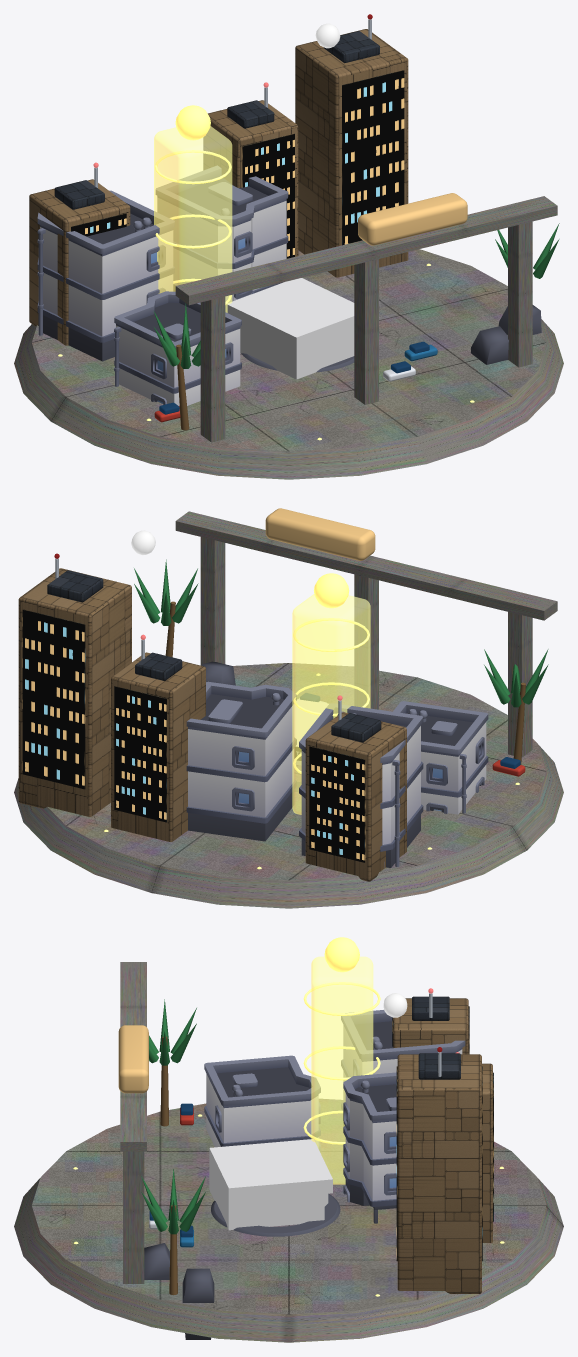
File: town-T5.glb
3 views of the same model, one above another, from view 1: azimuth 30°, elevation 25°; view 2: azimuth 150°, elevation 25°; view 3: azimuth 270°, elevation 25° (orthographic).
Parts seen in each view (by area): view 1: object 1, building-a, object 39, object 70, building-b, Mesh_noExport, object 40, building-c, object 65, object 21, object 45, object 66 (+11 smaller); view 2: object 1, building-b, object 39, object 41, object 70, object 65, object 45, building-c, object 47, object 21, object 23, building-a (+12 smaller); view 3: object 1, object 39, object 70, Mesh_noExport, building-c, building-b, building-a, object 65, object 68, object 21, grass, object 69 (+8 smaller).
Boxes of the visible parts, x1,y1,x2,y2 form: object 1: (14,249,563,479); building-a: (37,190,174,361); object 39: (295,29,408,277); object 70: (154,126,232,312); building-b: (156,165,288,311); Mesh_noExport: (226,278,354,379); object 40: (342,70,404,245); building-c: (114,291,241,405); object 65: (175,196,557,305); object 21: (29,179,130,345); object 45: (203,100,298,256); object 66: (200,296,225,442); object 1: (14,663,563,908); building-b: (186,681,296,841); object 39: (18,568,131,816); object 41: (22,609,85,789); object 70: (292,594,370,814); object 65: (175,511,557,620); object 45: (111,652,205,841); building-c: (393,701,488,814); object 47: (114,686,166,822); object 21: (305,712,406,881); object 23: (309,746,365,862); building-a: (299,703,423,867); object 1: (14,1099,563,1342); object 39: (397,1054,481,1293); object 70: (311,956,373,1184); Mesh_noExport: (209,1139,332,1230); building-c: (204,1055,320,1152); building-b: (343,1072,396,1223); building-a: (341,1010,465,1126); object 65: (120,962,146,1151); object 68: (123,1151,144,1283); object 21: (393,998,468,1054); grass: (144,1243,214,1339); object 69: (118,1025,148,1093).
Size of the model in its own units: 6.2 by 3.74 by 6.2.
Materials: 43 (12 with a texture image).
